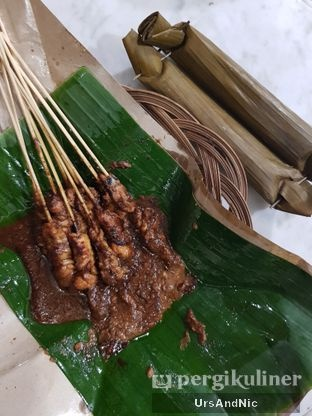sate_madura: (10, 105, 168, 293)
